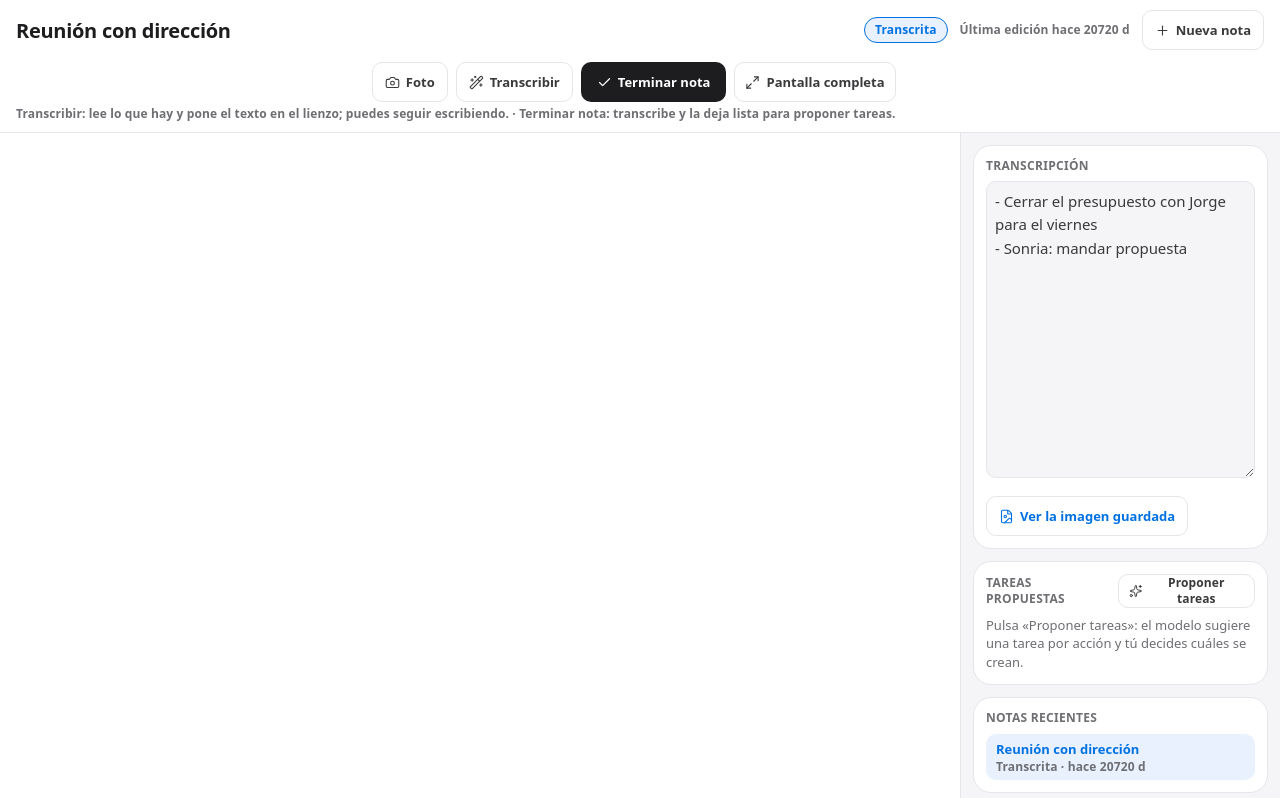
Test case: Notas manuscritas — tareas propuestas (vista) › si el proveedor falla al proponer, se enseña el error y no hay propuestas
Expected: the element with test id "propuestas-panel" is shown, [973, 561, 1268, 685]
Click the button "Proponer tareas" at (1187, 591), box [1118, 574, 1255, 608]
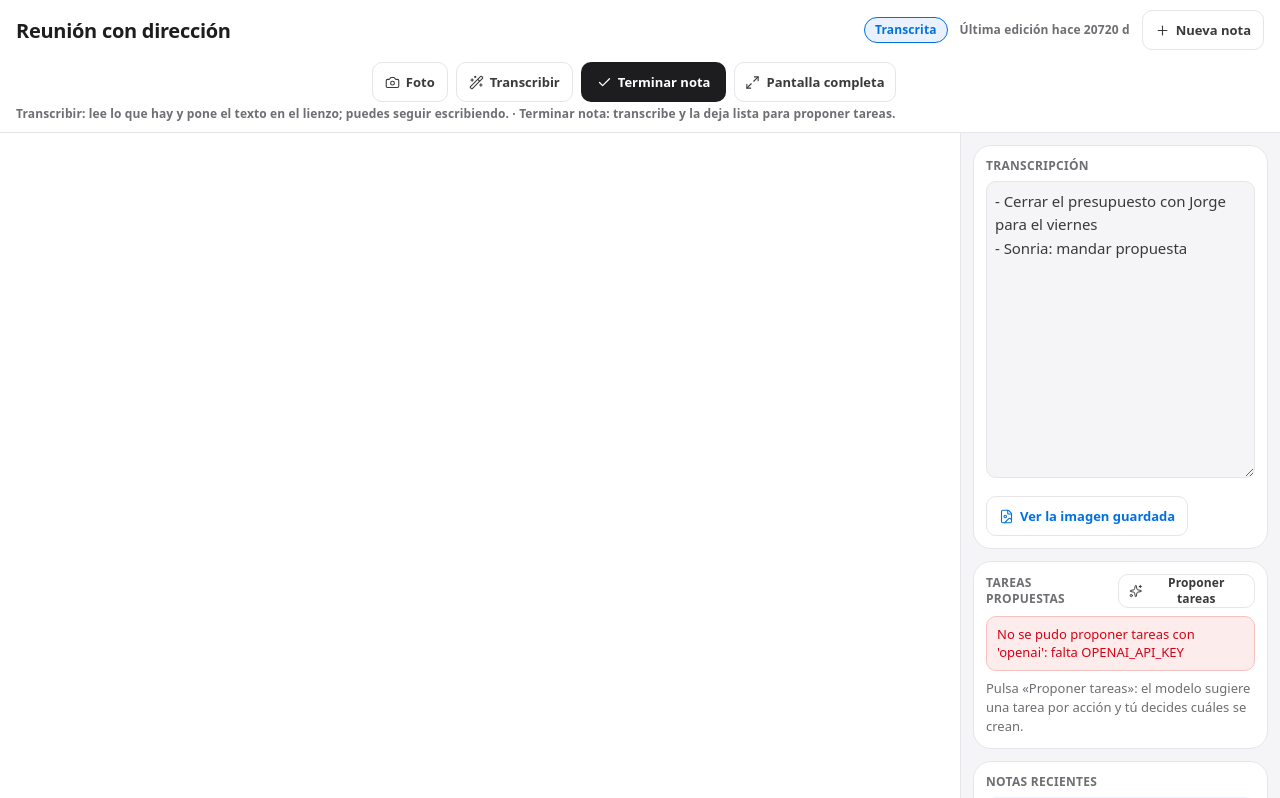
Result: the text with test id "error-propuestas" shows "OPENAI_API_KEY" at [997, 625, 1195, 661]
